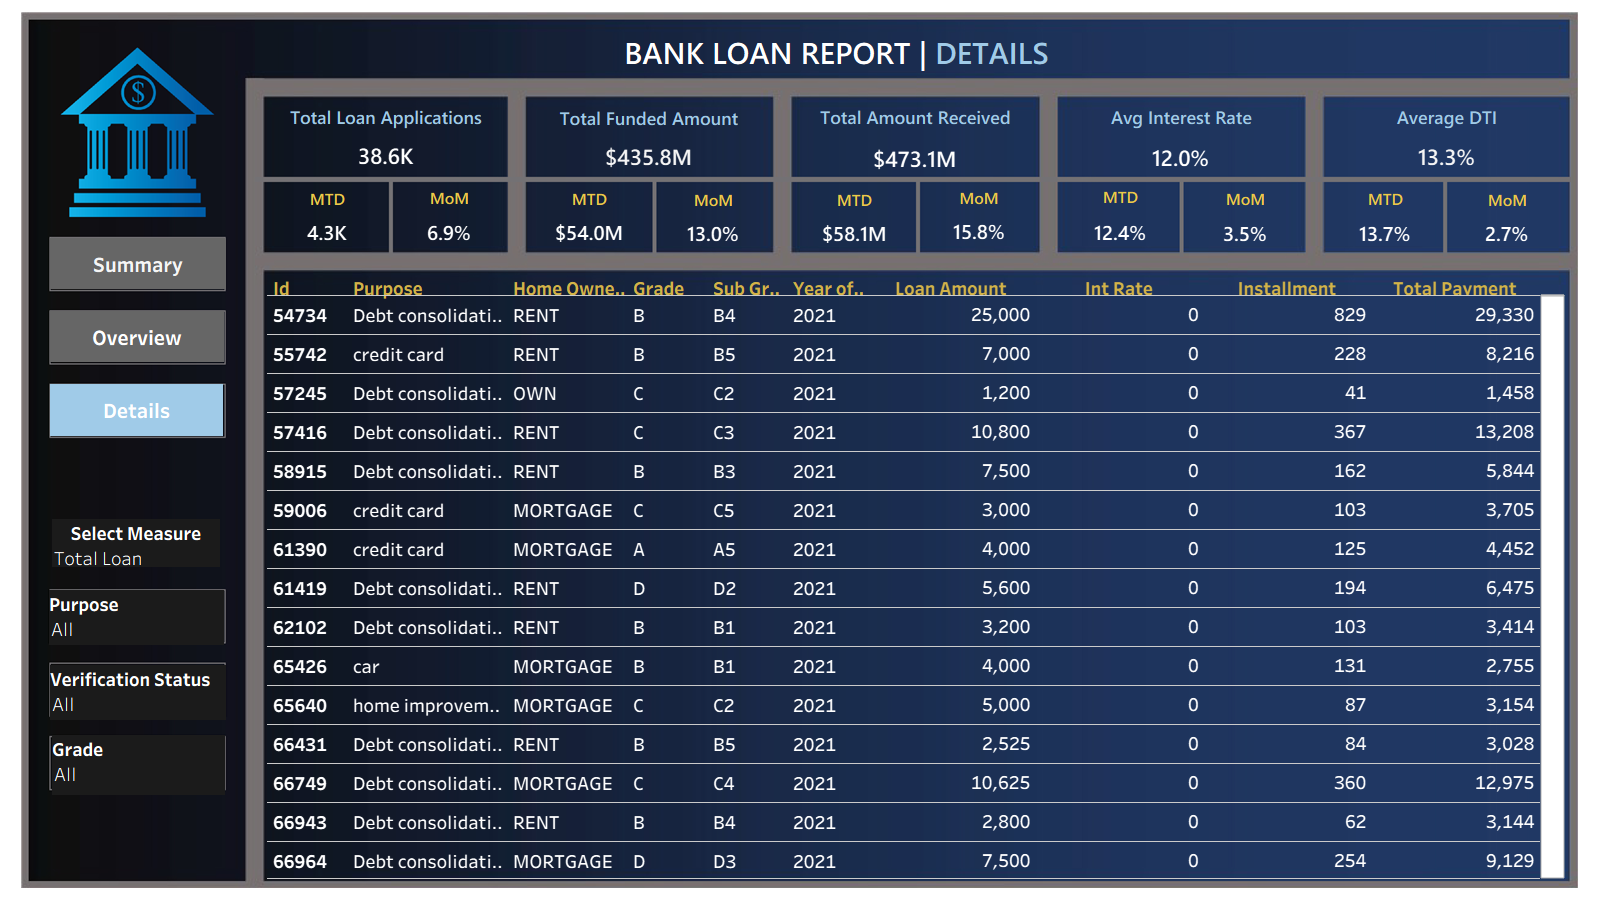

What the dashboard file says about the page in this screenshot:
{"tool":"tableau","page":{"name":"Details","canvas":[1600,900],"ordinal":0},"visuals":[{"type":"image","param":"C:/Users/JOY/Downloads/summary-01.jpg","box":[8,8,1584,884]},{"type":"text","box":[478,32,717,40]},{"type":"worksheet","title":"Total Loan Applications (Overview)","mark":"Automatic","box":[266,99,240,75]},{"type":"worksheet","title":"Total Amount Received (Overview)","mark":"Automatic","box":[793,99,245,80]},{"type":"worksheet","title":"Avg Interest Rate (Overview)","mark":"Automatic","box":[1057,99,249,78]},{"type":"worksheet","title":"Average DTI (Overview)","mark":"Automatic","box":[1325,99,244,77]},{"type":"worksheet","title":"Total Funded Amount (Overview)","mark":"Automatic","box":[528,100,242,75]},{"type":"worksheet","title":"MTD Avg Interest Rate (Overview)","mark":"Automatic","box":[1060,180,121,67]},{"type":"worksheet","title":"MoM Total Loan Applications (Overview)","mark":"Automatic","box":[392,181,115,66]},{"type":"worksheet","title":"MoM Total Amount Received (Overview)","mark":"Automatic","box":[920,181,118,63]},{"type":"worksheet","title":"MTD Total Loan Applications (Overview)","mark":"Automatic","box":[265,182,125,64]},{"type":"worksheet","title":"MTD Total Funded Amount (Overview)","mark":"Automatic","box":[527,182,125,63]},{"type":"worksheet","title":"MoM Average Interest Rate (Overview)","mark":"Automatic","box":[1185,182,121,65]},{"type":"worksheet","title":"MTD Average DTI (Overview)","mark":"Automatic","box":[1326,182,119,65]},{"type":"worksheet","title":"MoM Total Funded Amount (Overview)","mark":"Automatic","box":[656,183,115,63]},{"type":"worksheet","title":"MTD Total Amount Received (Overview)","mark":"Automatic","box":[793,183,123,64]},{"type":"worksheet","title":"MoM Average DTI (Overview)","mark":"Automatic","box":[1447,183,121,63]},{"type":"dashboard-object","box":[50,238,176,51]},{"type":"worksheet","title":"Details Tab","mark":"Automatic","rows":["id","purpose","home_ownership","grade","sub_grade","issue_date"],"box":[267,275,1298,604]},{"type":"dashboard-object","box":[50,311,174,51]},{"type":"dashboard-object","box":[50,384,173,52]},{"type":"parameter","param":"[Parameters].[Parameter 2]","box":[52,519,168,48]},{"type":"filter","title":"Average DTI (Overview)","param":"[federated.02bapp10spx5te19axciv0uohof1].[none:purpose:nk]","box":[49,590,175,55]},{"type":"filter","title":"Average DTI (Overview)","param":"[federated.02bapp10spx5te19axciv0uohof1].[none:verification_status:nk]","box":[50,665,176,49]},{"type":"filter","title":"Average DTI (Overview)","param":"[federated.02bapp10spx5te19axciv0uohof1].[none:grade:nk]","box":[52,735,173,53]}]}

Visuals, with their boxes in screenshot pixels (x1, y1, x2, y2), scaled from the page's 1600x900 canvas onto the 1600x900 screenshot:
image: bbox=(8, 8, 1592, 892)
text: bbox=(478, 32, 1195, 72)
"Total Loan Applications (Overview)" worksheet: bbox=(266, 99, 506, 174)
"Total Amount Received (Overview)" worksheet: bbox=(793, 99, 1038, 179)
"Avg Interest Rate (Overview)" worksheet: bbox=(1057, 99, 1306, 177)
"Average DTI (Overview)" worksheet: bbox=(1325, 99, 1569, 176)
"Total Funded Amount (Overview)" worksheet: bbox=(528, 100, 770, 175)
"MTD Avg Interest Rate (Overview)" worksheet: bbox=(1060, 180, 1181, 247)
"MoM Total Loan Applications (Overview)" worksheet: bbox=(392, 181, 507, 247)
"MoM Total Amount Received (Overview)" worksheet: bbox=(920, 181, 1038, 244)
"MTD Total Loan Applications (Overview)" worksheet: bbox=(265, 182, 390, 246)
"MTD Total Funded Amount (Overview)" worksheet: bbox=(527, 182, 652, 245)
"MoM Average Interest Rate (Overview)" worksheet: bbox=(1185, 182, 1306, 247)
"MTD Average DTI (Overview)" worksheet: bbox=(1326, 182, 1445, 247)
"MoM Total Funded Amount (Overview)" worksheet: bbox=(656, 183, 771, 246)
"MTD Total Amount Received (Overview)" worksheet: bbox=(793, 183, 916, 247)
"MoM Average DTI (Overview)" worksheet: bbox=(1447, 183, 1568, 246)
dashboard-object: bbox=(50, 238, 226, 289)
"Details Tab" worksheet: bbox=(267, 275, 1565, 879)
dashboard-object: bbox=(50, 311, 224, 362)
dashboard-object: bbox=(50, 384, 223, 436)
parameter: bbox=(52, 519, 220, 567)
"Average DTI (Overview)" filter: bbox=(49, 590, 224, 645)
"Average DTI (Overview)" filter: bbox=(50, 665, 226, 714)
"Average DTI (Overview)" filter: bbox=(52, 735, 225, 788)
